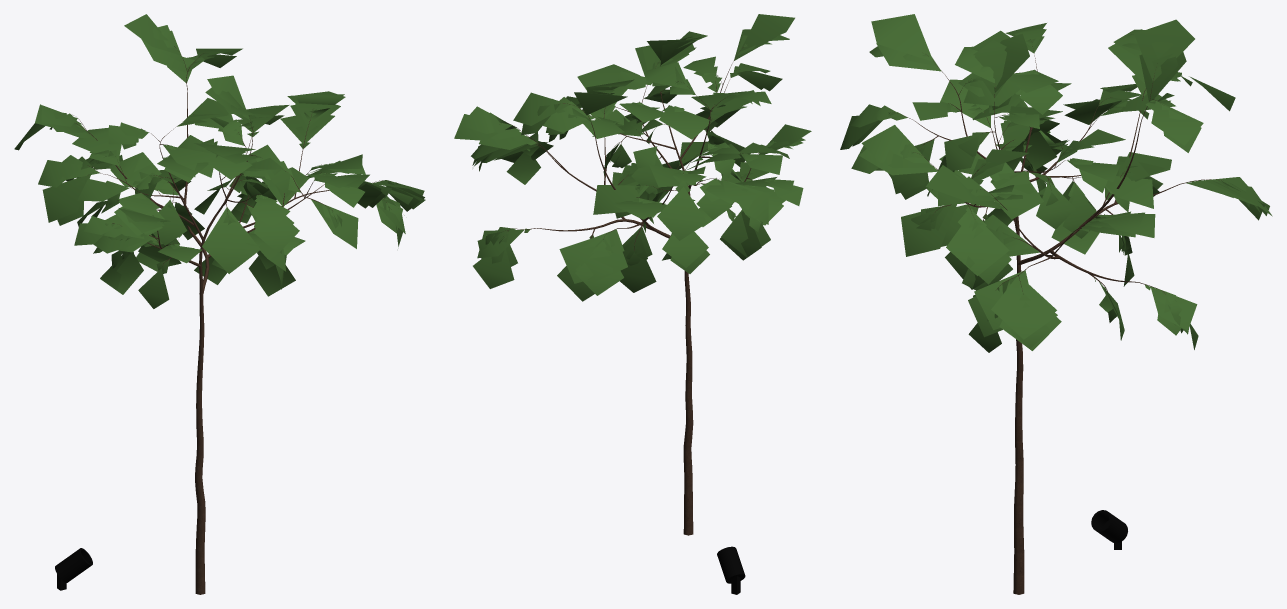
Rendered from tree.fbx.
3 views of the same model, side by side, from view 1: azimuth 30°, elevation 25°; view 2: azimuth 150°, elevation 25°; view 3: azimuth 270°, elevation 25° (orthographic). The views are drawn at different scales.
Parts seen in each view (by area): view 1: Sapling_Acer-pseudoplatanus_A_summer.001, 円柱.002; view 2: Sapling_Acer-pseudoplatanus_A_summer.001, 円柱.002; view 3: Sapling_Acer-pseudoplatanus_A_summer.001, 円柱.002.
Boxes of the visible parts, <box> form: Sapling_Acer-pseudoplatanus_A_summer.001: <box>14,14,425,594</box>; 円柱.002: <box>55,548,92,590</box>; Sapling_Acer-pseudoplatanus_A_summer.001: <box>454,14,811,535</box>; 円柱.002: <box>717,546,745,594</box>; Sapling_Acer-pseudoplatanus_A_summer.001: <box>840,14,1272,594</box>; 円柱.002: <box>1091,510,1127,549</box>.
Bounding box in the file's own units: 229 × 333 × 226.
